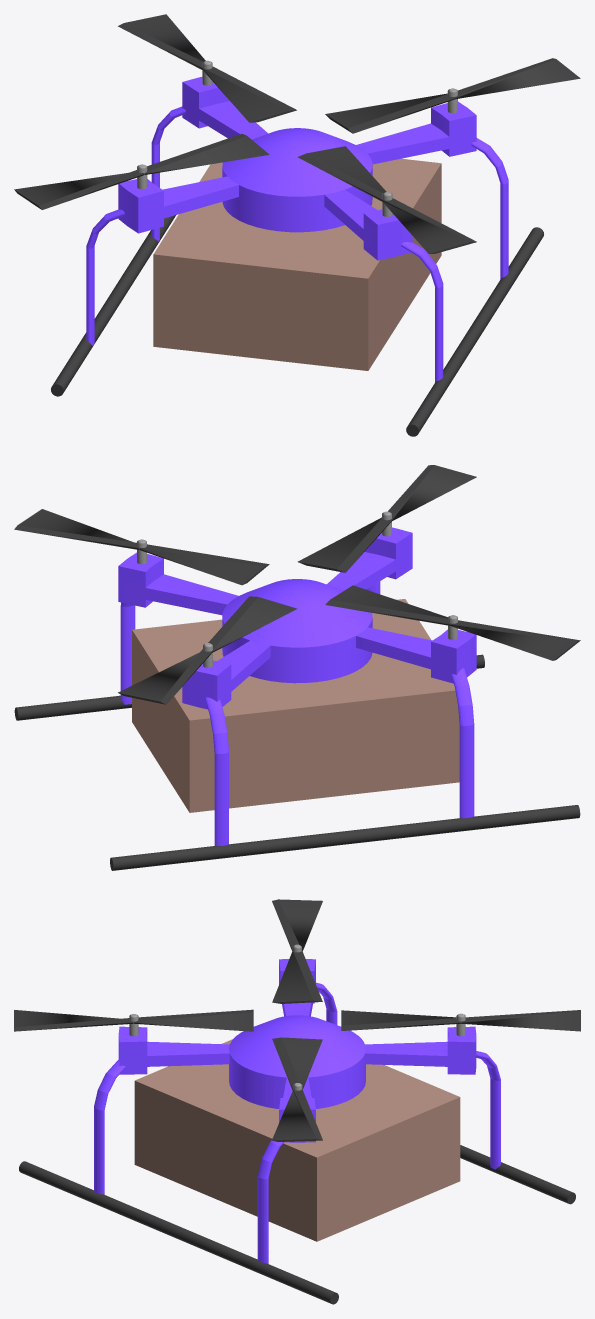
Rendered from drone.fbx.
The picture shows the model from 3 angles, top to bottom: view 1: azimuth 30°, elevation 25°; view 2: azimuth 150°, elevation 25°; view 3: azimuth 270°, elevation 25°; orthographic projection. The views are drawn at different scales.
Parts seen in each view (by area): view 1: drone_alone:package, drone_alone:drone_body, drone_alone:pCube1 (×4), drone_alone:skid_1, drone_alone:skid_2, drone_alone:leg_1, drone_alone:leg_2, drone_alone:leg_4, drone_alone:leg_3; view 2: drone_alone:package, drone_alone:drone_body, drone_alone:pCube1 (×4), drone_alone:skid_2, drone_alone:leg_4, drone_alone:leg_3, drone_alone:skid_1, drone_alone:leg_2; view 3: drone_alone:package, drone_alone:drone_body, drone_alone:pCube1 (×4), drone_alone:skid_1, drone_alone:leg_1, drone_alone:skid_2, drone_alone:leg_2, drone_alone:leg_3.
Boxes of the visible parts, box(x1,y1,x2,y2) form: drone_alone:package: box(153, 158, 441, 370); drone_alone:drone_body: box(118, 77, 476, 260); drone_alone:pCube1 (×4): box(14, 14, 580, 253); drone_alone:skid_1: box(406, 227, 543, 436); drone_alone:skid_2: box(51, 215, 175, 396); drone_alone:leg_1: box(401, 242, 443, 382); drone_alone:leg_2: box(471, 138, 508, 279); drone_alone:leg_4: box(86, 209, 124, 345); drone_alone:leg_3: box(151, 106, 185, 241); drone_alone:package: box(132, 599, 459, 812); drone_alone:drone_body: box(118, 527, 476, 709); drone_alone:pCube1 (×4): box(14, 465, 580, 704); drone_alone:skid_2: box(110, 805, 580, 870); drone_alone:leg_4: box(451, 668, 474, 818); drone_alone:leg_3: box(205, 697, 228, 846); drone_alone:skid_1: box(14, 654, 484, 720); drone_alone:leg_2: box(120, 602, 135, 704); drone_alone:package: box(134, 1039, 460, 1241); drone_alone:drone_body: box(118, 959, 476, 1142); drone_alone:pCube1 (×4): box(14, 899, 580, 1141); drone_alone:skid_1: box(19, 1161, 338, 1304); drone_alone:leg_1: box(94, 1059, 125, 1194); drone_alone:skid_2: box(460, 1145, 575, 1204); drone_alone:leg_2: box(257, 1140, 284, 1263); drone_alone:leg_3: box(476, 1051, 500, 1169).
Size of the model in its own units: 0.7279 by 0.2458 by 0.7279.
